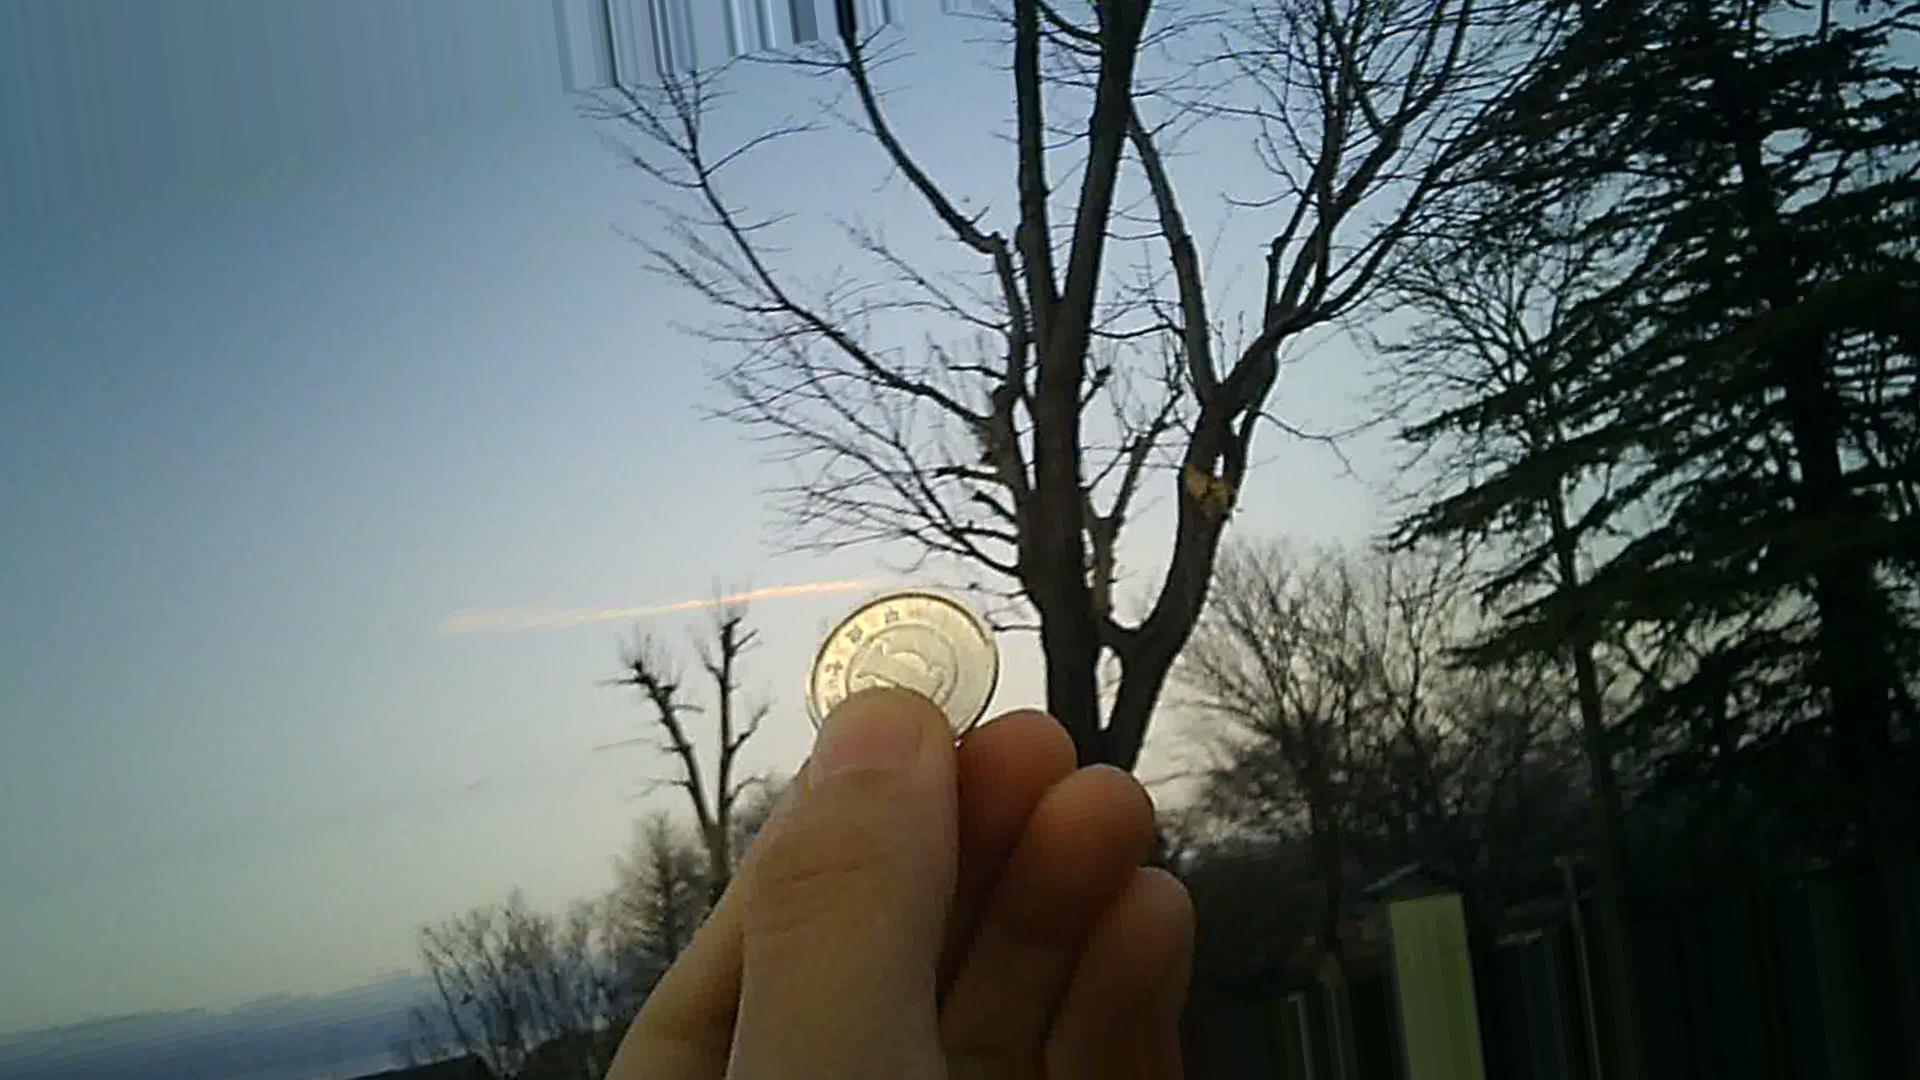1 Yen: (789, 579, 1006, 752)
